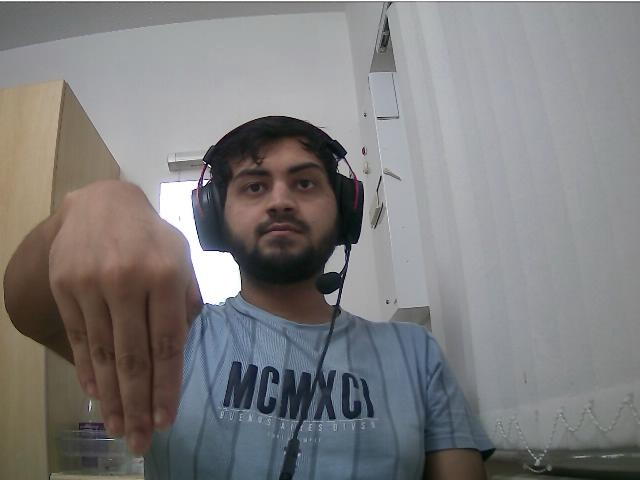down: (52, 177, 187, 457)
